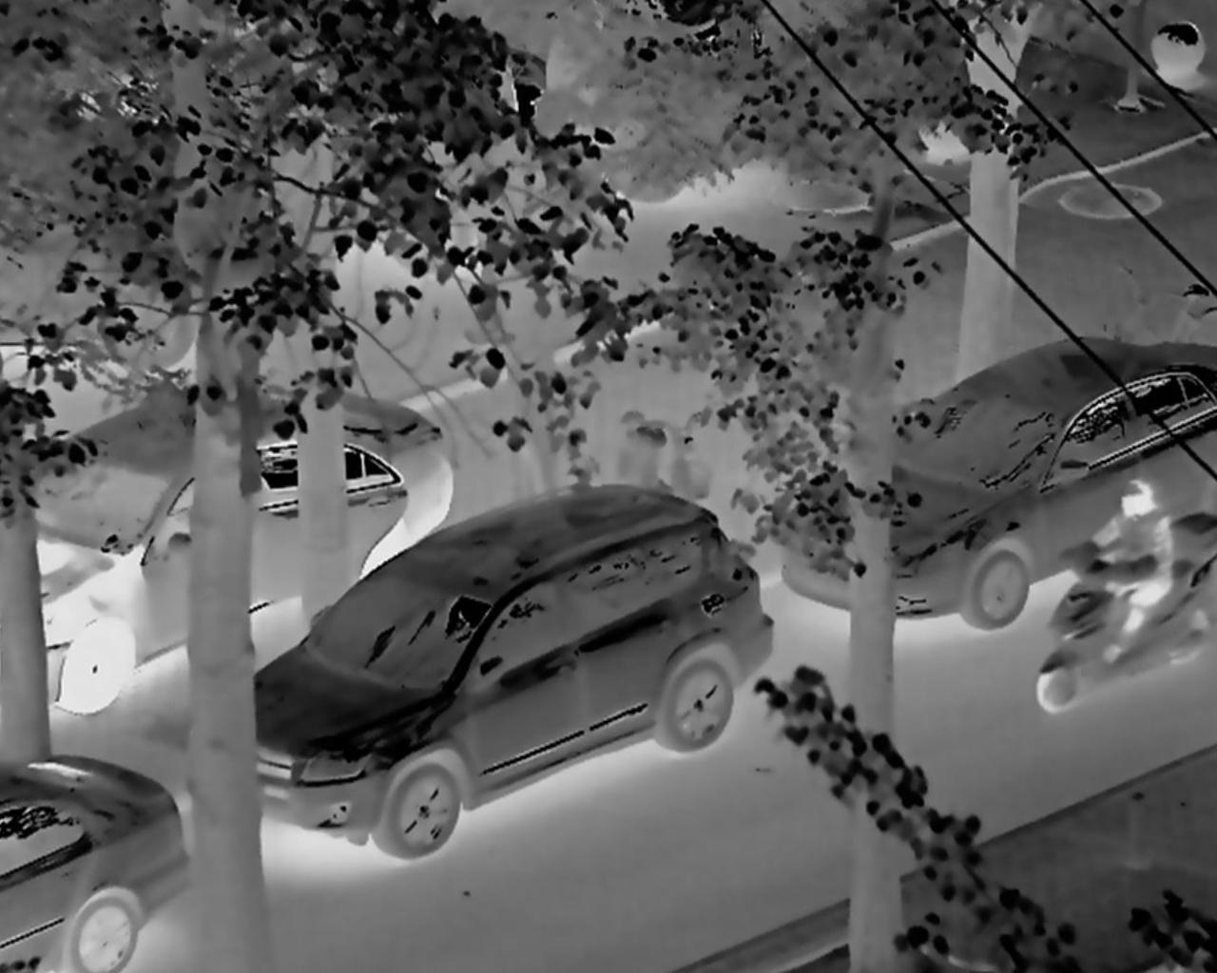person: (1090, 473, 1177, 670)
